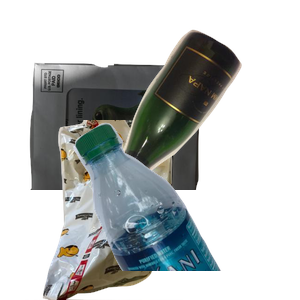glass: (87, 27, 300, 207)
paper: (27, 60, 223, 240)
plastic: (71, 120, 300, 300)
trash: (25, 120, 198, 300)
